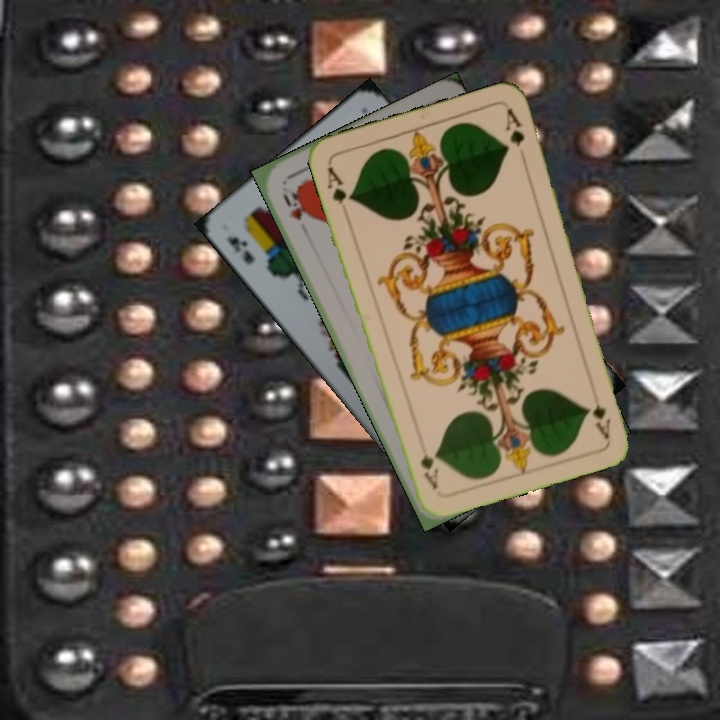EK: (223, 232, 258, 267)
GA: (587, 384, 614, 442), (323, 162, 355, 206)
HO: (278, 186, 309, 224)
